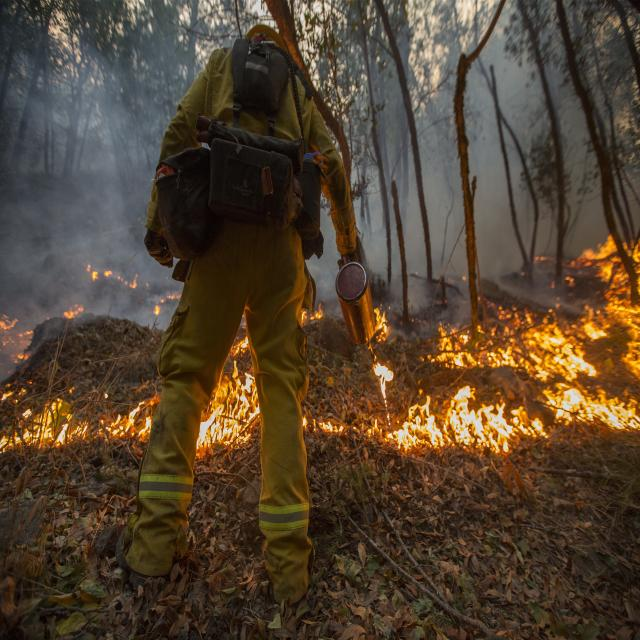Fire: (407, 243, 640, 453), (196, 349, 263, 463), (4, 402, 147, 449)
Smoke: (0, 59, 180, 329)
